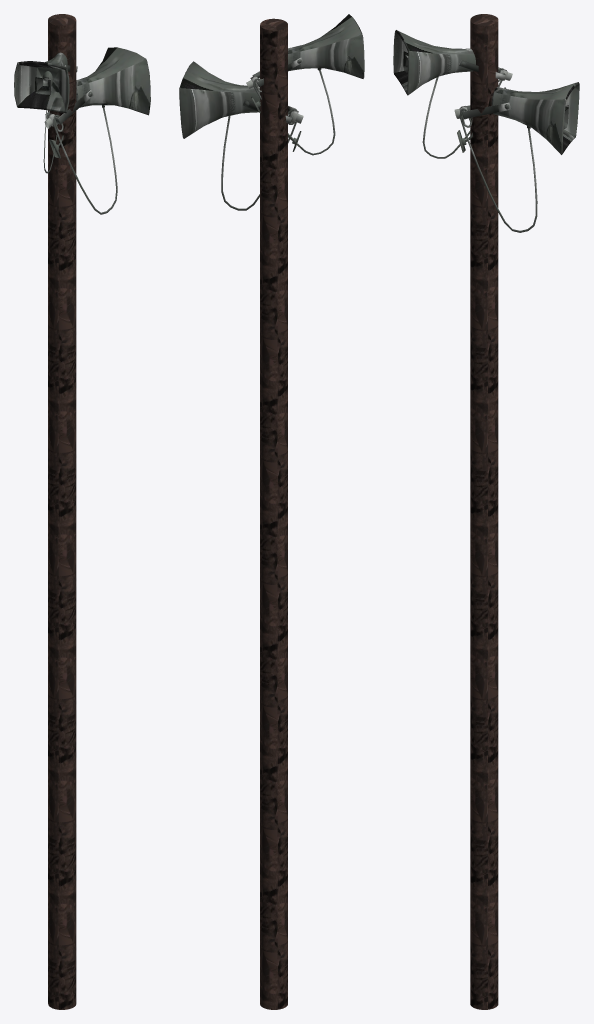
Rendered from classic_siren_with_2_speakers.glb.
3 renders of one model, left to right at view 1: azimuth 30°, elevation 25°; view 2: azimuth 150°, elevation 25°; view 3: azimuth 330°, elevation 25°, orthographic.
Visible parts, largest first — view 1: Object_2, Object_3; view 2: Object_2, Object_3; view 3: Object_2, Object_3.
Boxes of the visible parts, left/top/right/bottom form: Object_2: left=48, top=14, right=76, bottom=1009; Object_3: left=14, top=47, right=150, bottom=214; Object_2: left=260, top=18, right=287, bottom=1009; Object_3: left=179, top=14, right=364, bottom=210; Object_2: left=470, top=14, right=498, bottom=1009; Object_3: left=393, top=30, right=579, bottom=232.
Size of the model in its own units: 13.02 by 79.93 by 9.75.
2 materials, 2 textured.
